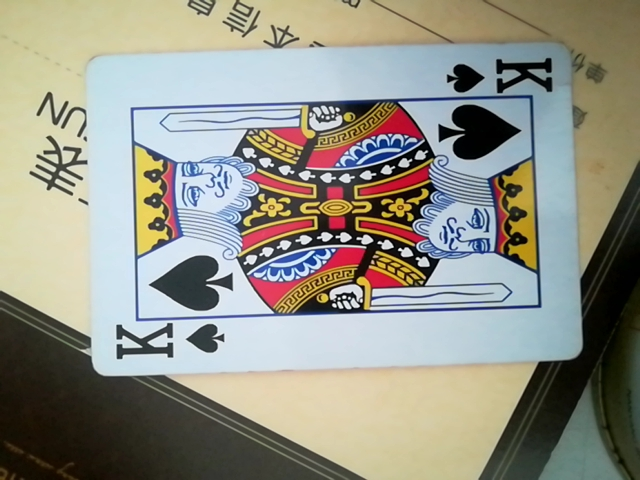ht k: (79, 48, 582, 388)
